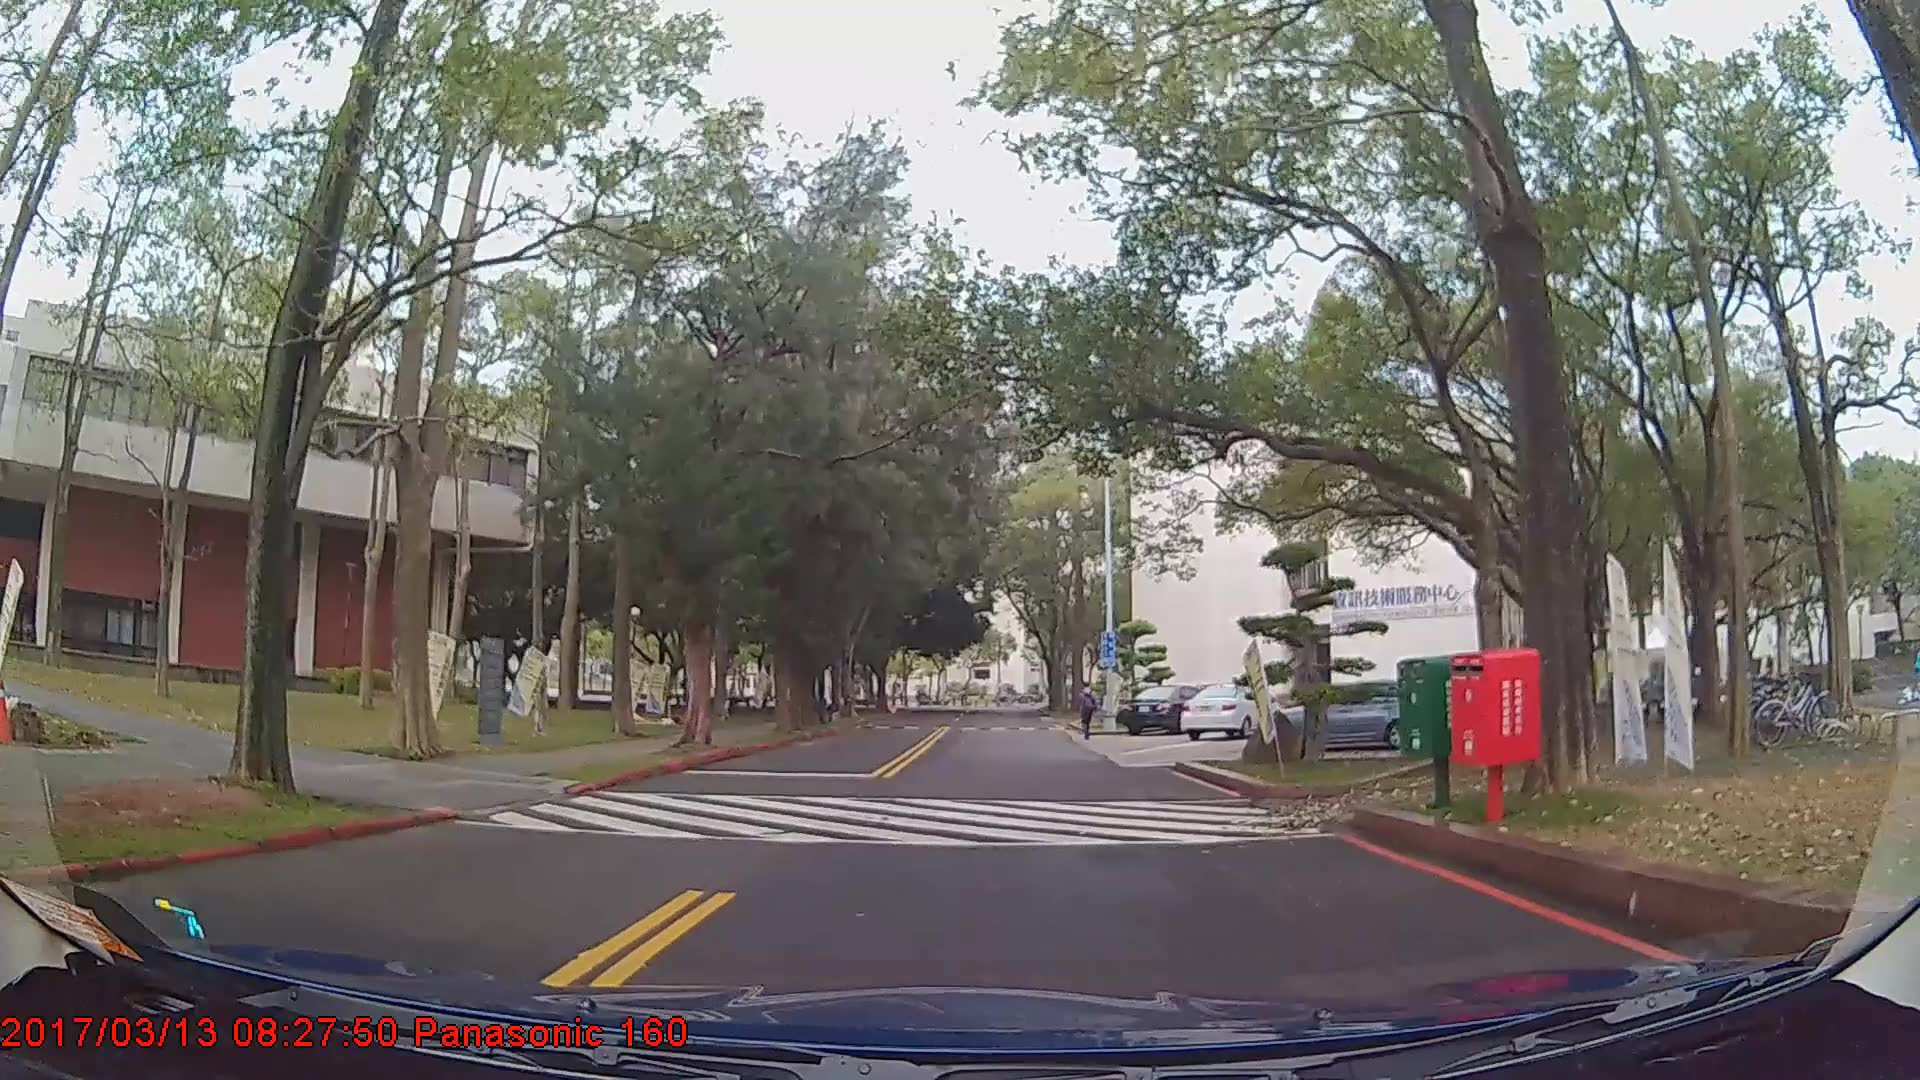pedestrian: (1072, 682, 1099, 745)
vehicle: (1177, 680, 1269, 743), (1115, 684, 1211, 735)
